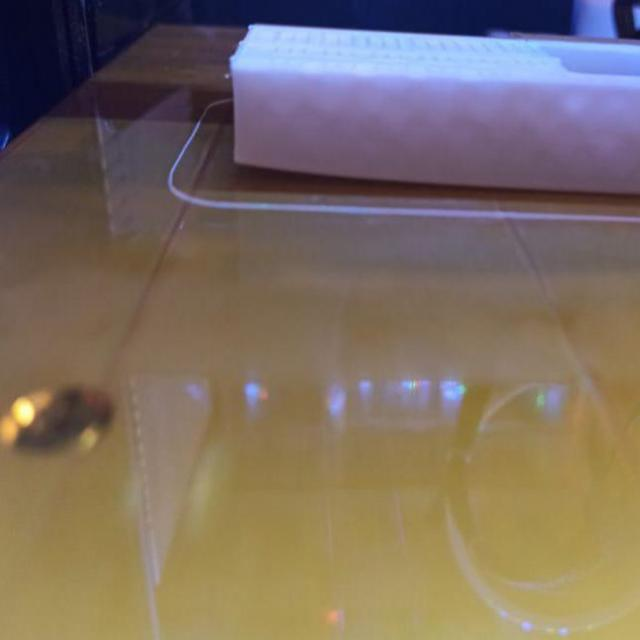Warping: (235, 154, 352, 182)
